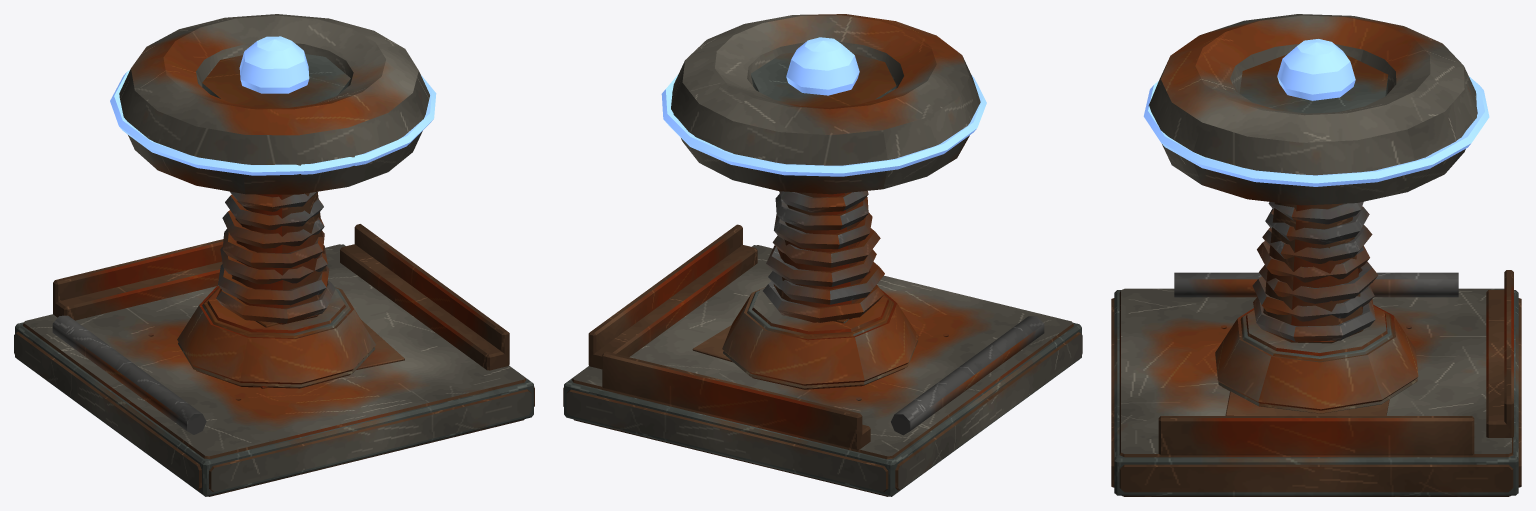
The model's file is R4X_AreaEMP.glb.
3 views of the same model, side by side, from view 1: azimuth 30°, elevation 25°; view 2: azimuth 150°, elevation 25°; view 3: azimuth 270°, elevation 25° (orthographic). The views are drawn at different scales.
Parts seen in each view (by area): view 1: R4X_AreaEMP_Body; view 2: R4X_AreaEMP_Body; view 3: R4X_AreaEMP_Body.
Boxes of the visible parts, x1=… form: R4X_AreaEMP_Body: x1=14, y1=14, x2=534, y2=496; R4X_AreaEMP_Body: x1=563, y1=14, x2=1082, y2=496; R4X_AreaEMP_Body: x1=1111, y1=14, x2=1521, y2=496.
Size of the model in its own units: 0.52 by 0.52 by 0.52.
Materials: 5 (4 with a texture image).
